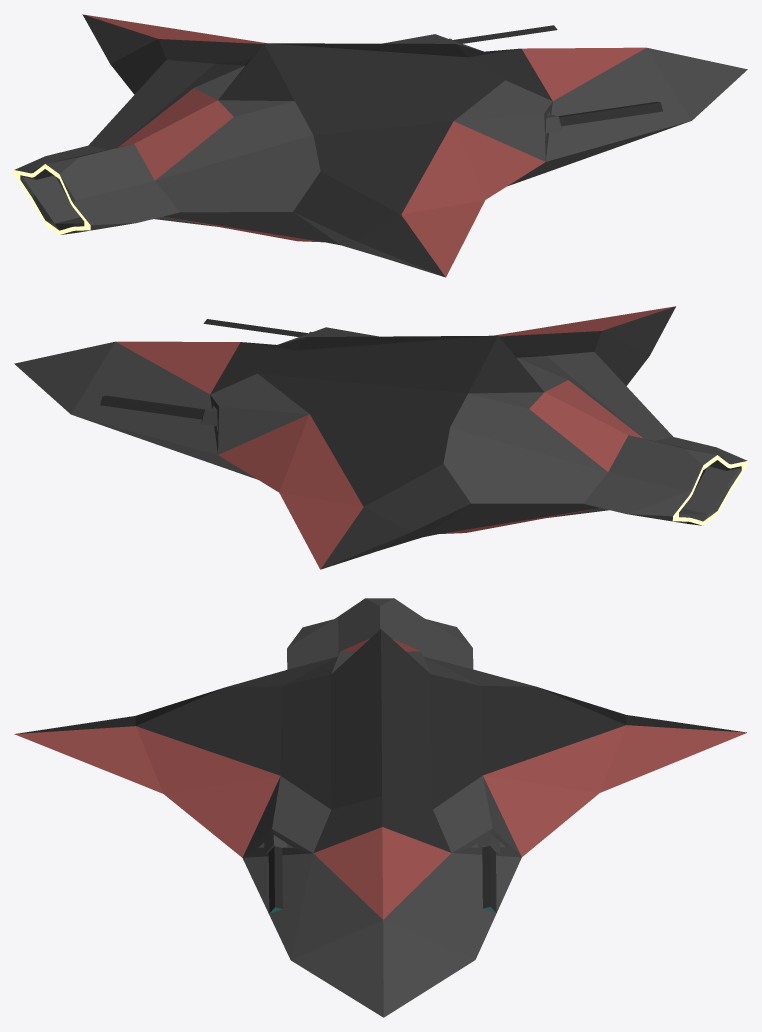
Rendered from spaceship.fbx.
3 renders of one model, top to bottom at view 1: azimuth 30°, elevation 25°; view 2: azimuth 150°, elevation 25°; view 3: azimuth 270°, elevation 25°, orthographic. The views are drawn at different scales.
Parts seen in each view (by area): view 1: Cube; view 2: Cube; view 3: Cube.
Boxes of the visible parts, left/top/right/bottom form: Cube: left=14, top=14, right=747, bottom=277; Cube: left=14, top=306, right=747, bottom=569; Cube: left=14, top=598, right=746, bottom=1017.
Size of the model in its own units: 331 by 85.35 by 296.
